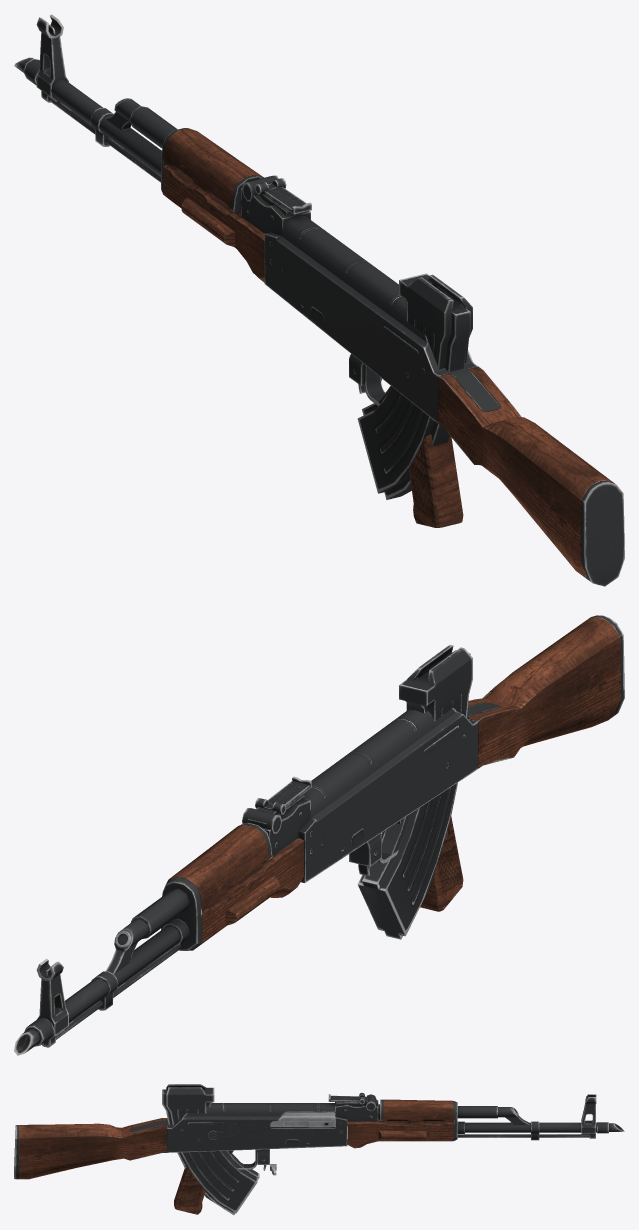
The picture shows the model from 3 angles, top to bottom: view 1: azimuth 30°, elevation 25°; view 2: azimuth 150°, elevation 25°; view 3: azimuth 270°, elevation 25°; orthographic projection. The views are drawn at different scales.
Parts seen in each view (by area): view 1: Body, Magazine; view 2: Body, Magazine; view 3: Body, Magazine.
Part boxes in pixels (x1,y1,x2,y2): Body: (14,14,624,586); Magazine: (357,273,472,499); Body: (14,615,624,1055); Magazine: (357,645,472,939); Body: (14,1092,624,1214); Magazine: (162,1084,259,1214).
Bounding box in the file's own units: 0.1302 × 0.2579 × 1.12.
1 material, 1 textured.
